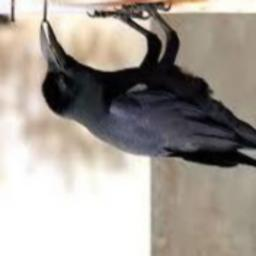Crow: (41, 1, 256, 177)
